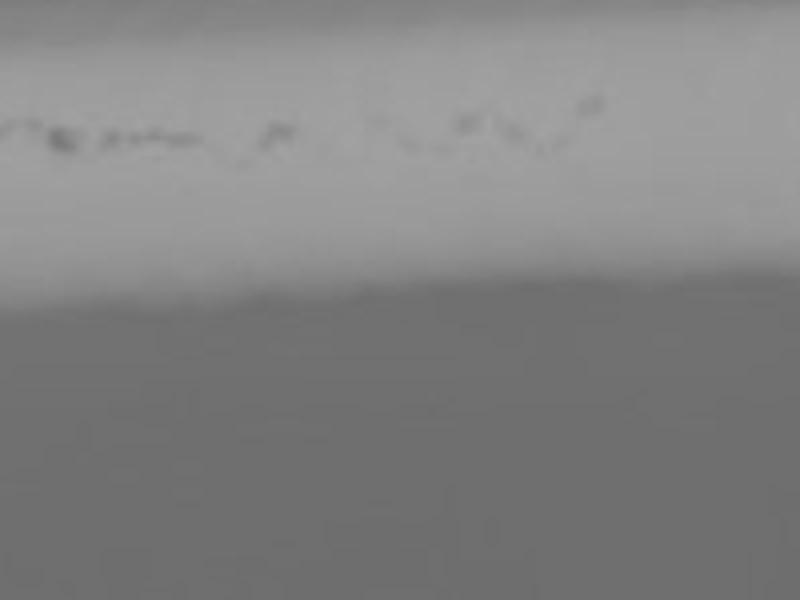defect: (253, 120, 301, 152), (491, 110, 524, 150), (529, 134, 570, 157), (46, 123, 75, 155), (575, 92, 611, 116), (96, 124, 124, 154), (392, 132, 422, 159), (452, 108, 483, 134), (164, 131, 202, 147), (20, 109, 41, 133), (1, 113, 19, 140), (139, 123, 161, 139), (123, 130, 142, 148)
